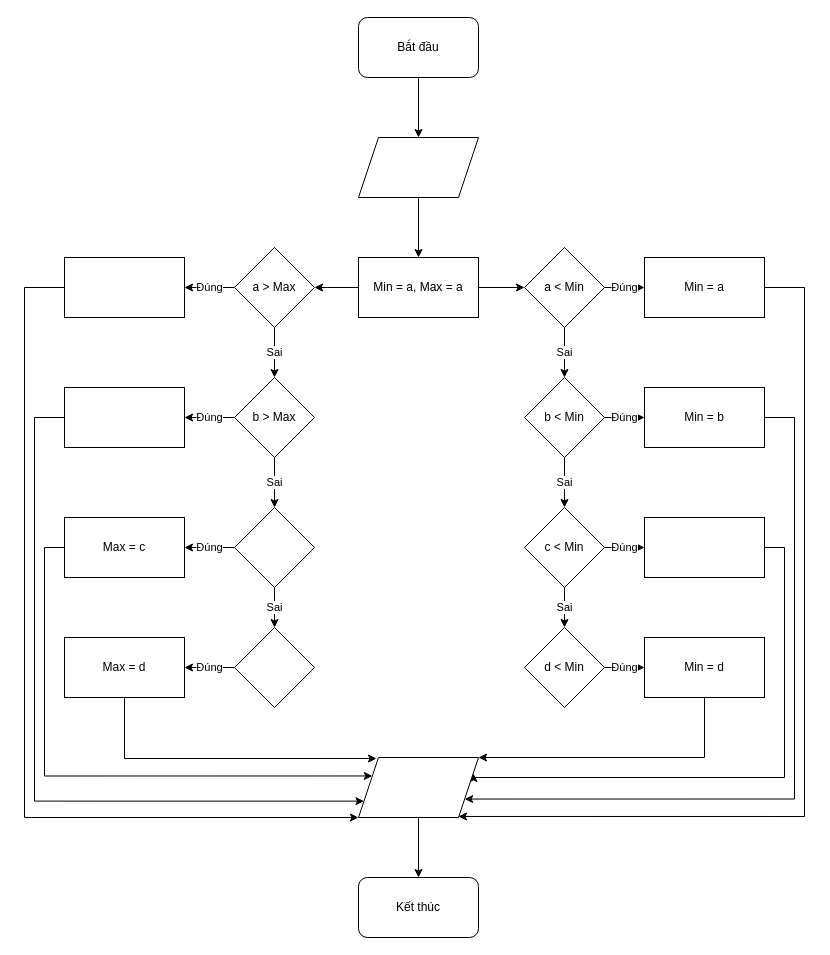
This 830x955 diagram has some shape labels left out. The centre of each missing label's shape, as x and y in pixels:
"c > Max" belongs at pixel 274 547.
"d > Max" belongs at pixel 274 667.
"Display: Min, Max" belongs at pixel 418 787.
"Input a, b, c, d" belongs at pixel 418 167.
"Max = a" belongs at pixel 124 287.
"Max = b" belongs at pixel 124 417.
"Min = c" belongs at pixel 704 547.
